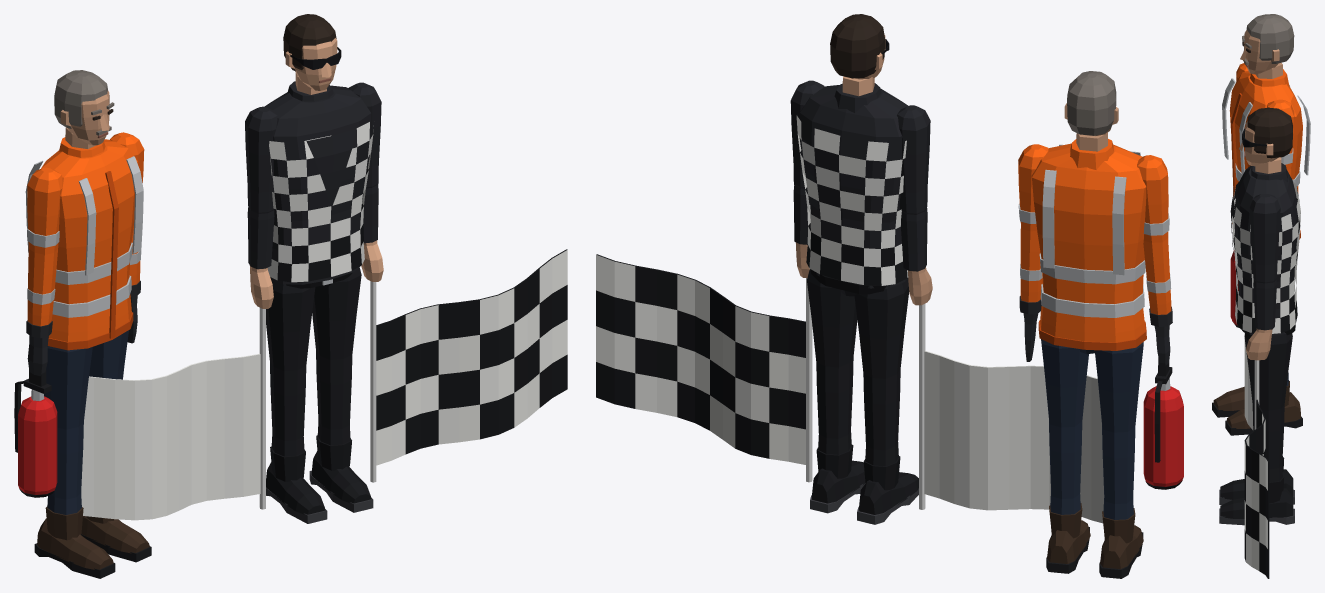
Rendered from flagger.glb.
3 views of the same model, side by side, from view 1: azimuth 30°, elevation 25°; view 2: azimuth 150°, elevation 25°; view 3: azimuth 270°, elevation 25° (orthographic). The views are drawn at different scales.
Visible parts, largest first — view 1: Mate, Body, ChequeredFlag, WhiteFlag, WhiteForearm, ChequeredForearm, WhiteArm, ChequeredArm; view 2: Mate, Body, ChequeredFlag, WhiteFlag, WhiteForearm, WhiteArm, ChequeredForearm, ChequeredArm; view 3: Body, Mate, ChequeredFlag, ChequeredArm, ChequeredForearm, WhiteFlag.
Boxes of the visible parts, x1,y1,x2,y2 form: Mate: (14,70,151,578); Body: (265,14,373,523); ChequeredFlag: (376,249,567,465); WhiteFlag: (81,353,260,520); WhiteForearm: (247,207,274,509); ChequeredForearm: (361,185,383,482); WhiteArm: (245,106,277,213); ChequeredArm: (348,82,381,188); Mate: (1018,71,1183,578); Body: (796,14,918,524); ChequeredFlag: (596,254,805,464); WhiteFlag: (924,350,1104,523); WhiteForearm: (901,208,932,509); WhiteArm: (897,105,930,214); ChequeredForearm: (793,185,812,482); ChequeredArm: (790,80,824,188); Body: (1219,107,1300,525); Mate: (1212,14,1310,435); ChequeredFlag: (1244,399,1269,578); ChequeredArm: (1249,194,1280,283); ChequeredForearm: (1246,279,1276,429); WhiteFlag: (1244,333,1253,430).
Bounding box in the file's own units: 2.2 × 1.79 × 0.4013.
